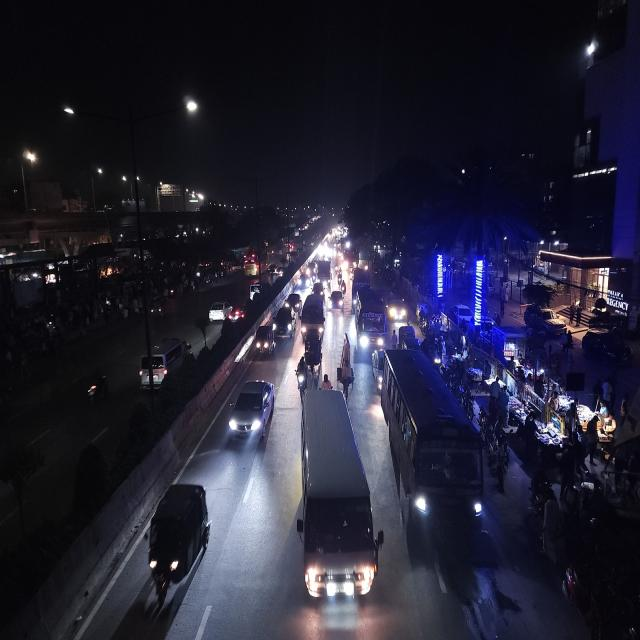bus: (380, 347, 486, 550), (296, 386, 376, 615), (352, 279, 386, 354), (300, 292, 326, 345), (244, 252, 264, 276)
car: (142, 478, 212, 620), (226, 375, 276, 451), (136, 331, 191, 390), (82, 368, 110, 411), (274, 303, 296, 341), (388, 290, 408, 324), (206, 299, 228, 324), (329, 287, 345, 314), (288, 289, 302, 315), (231, 302, 247, 324), (296, 271, 308, 288)
cng: (143, 477, 211, 618), (252, 321, 276, 359)
motorcycle: (295, 354, 307, 398), (336, 268, 346, 290), (323, 370, 332, 391)
truck: (316, 257, 332, 288)
